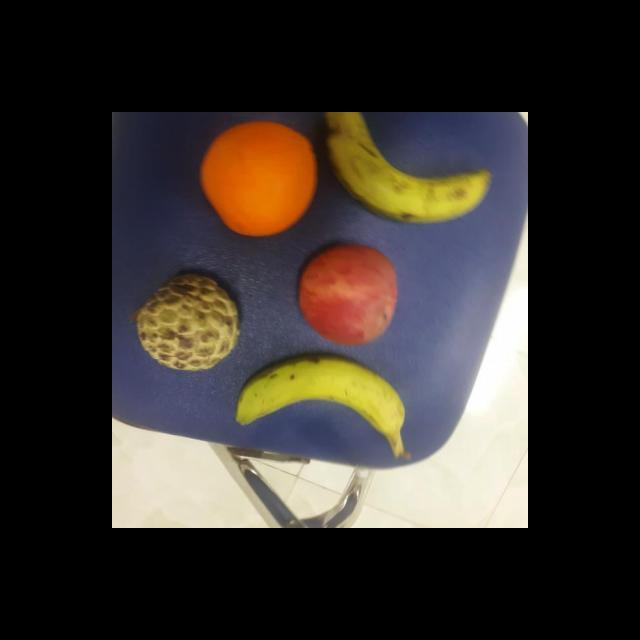Sakya fruit: (132, 270, 242, 375)
apple: (297, 241, 403, 350)
banana: (320, 113, 496, 230), (233, 354, 410, 458)
orange: (198, 120, 320, 237)
